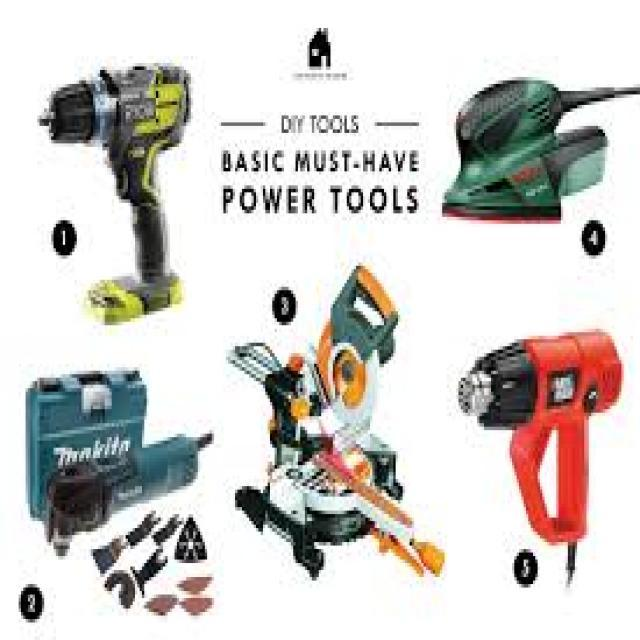drill: (34, 53, 198, 332), (454, 320, 626, 584)
